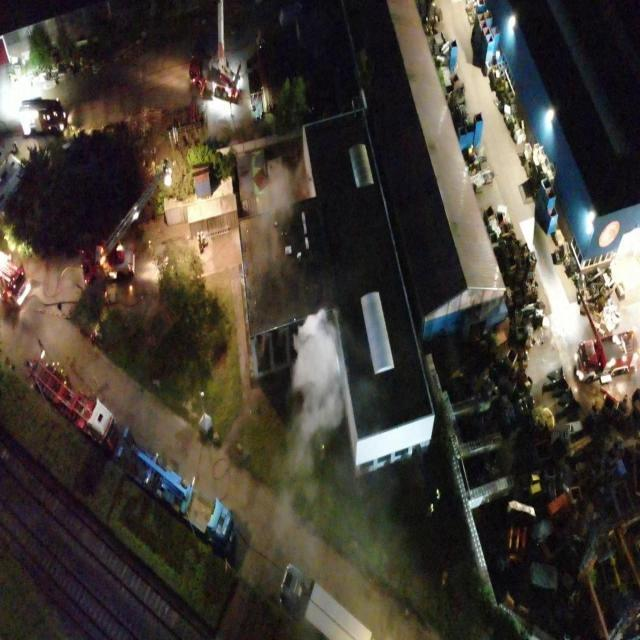Smoke: (272, 306, 374, 534), (248, 158, 310, 280)
